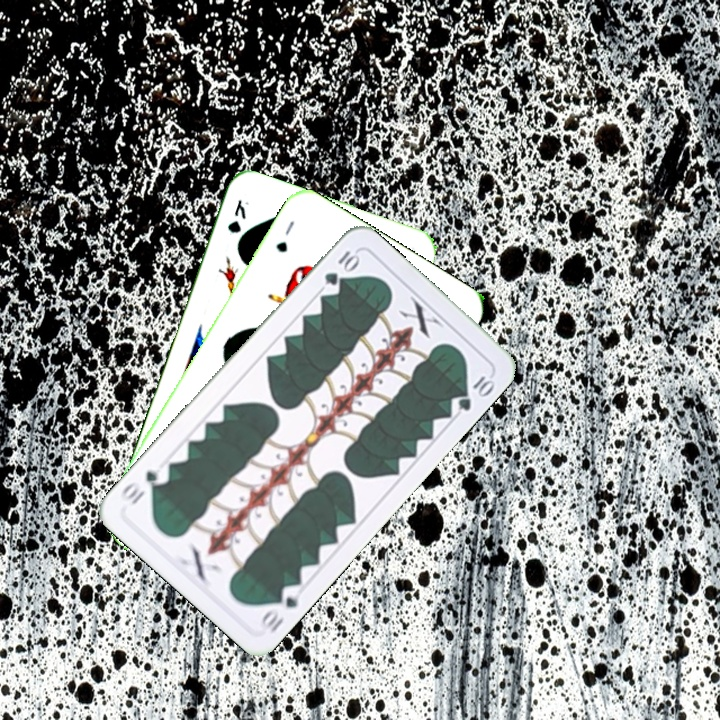G10: (255, 580, 305, 635), (320, 246, 362, 288)
GK: (223, 195, 252, 236)
GU: (271, 216, 297, 256)
